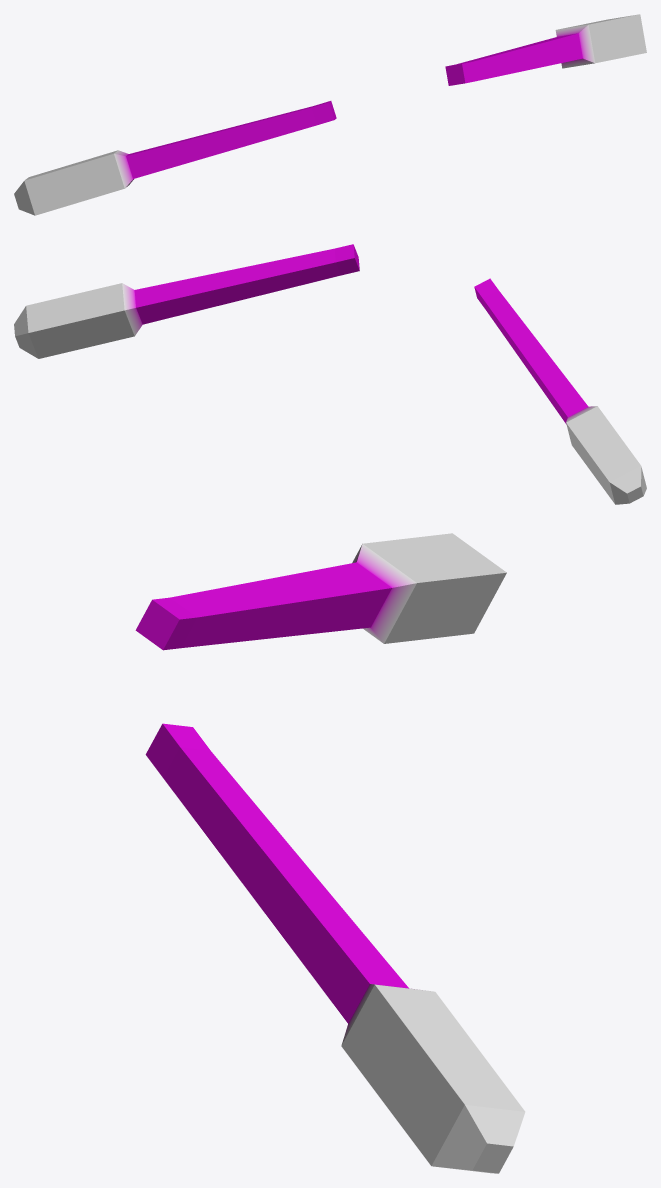
File: steering_uv.fbx
The picture shows the model from 3 angles, top to bottom: view 1: azimuth 30°, elevation 25°; view 2: azimuth 150°, elevation 25°; view 3: azimuth 270°, elevation 25°; orthographic projection. The views are drawn at different scales.
Parts seen in each view (by area): view 1: steering_ny_002; view 2: steering_ny_002; view 3: steering_ny_002.
Boxes of the visible parts, x1,y1,x2,y2 form: steering_ny_002: (14, 14, 646, 215); steering_ny_002: (14, 244, 646, 504); steering_ny_002: (135, 533, 525, 1173).
Size of the model in its own units: 173 by 32.09 by 46.93.
